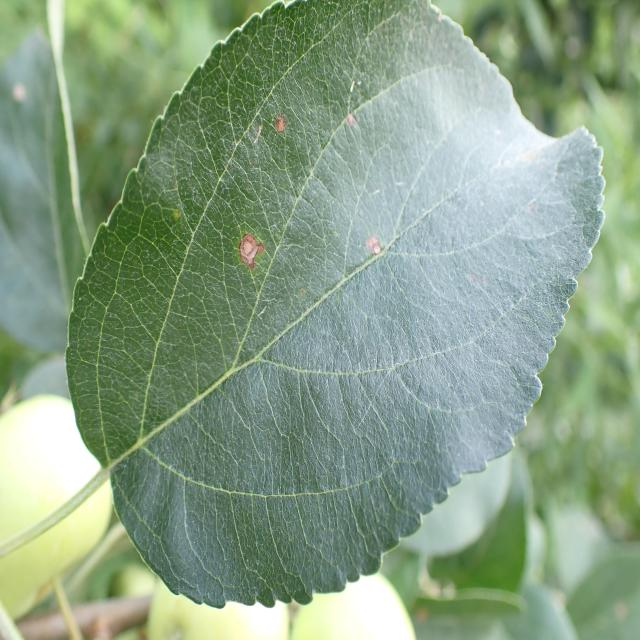Black Rot: (234, 213, 267, 291), (353, 221, 392, 277), (262, 101, 300, 153)
